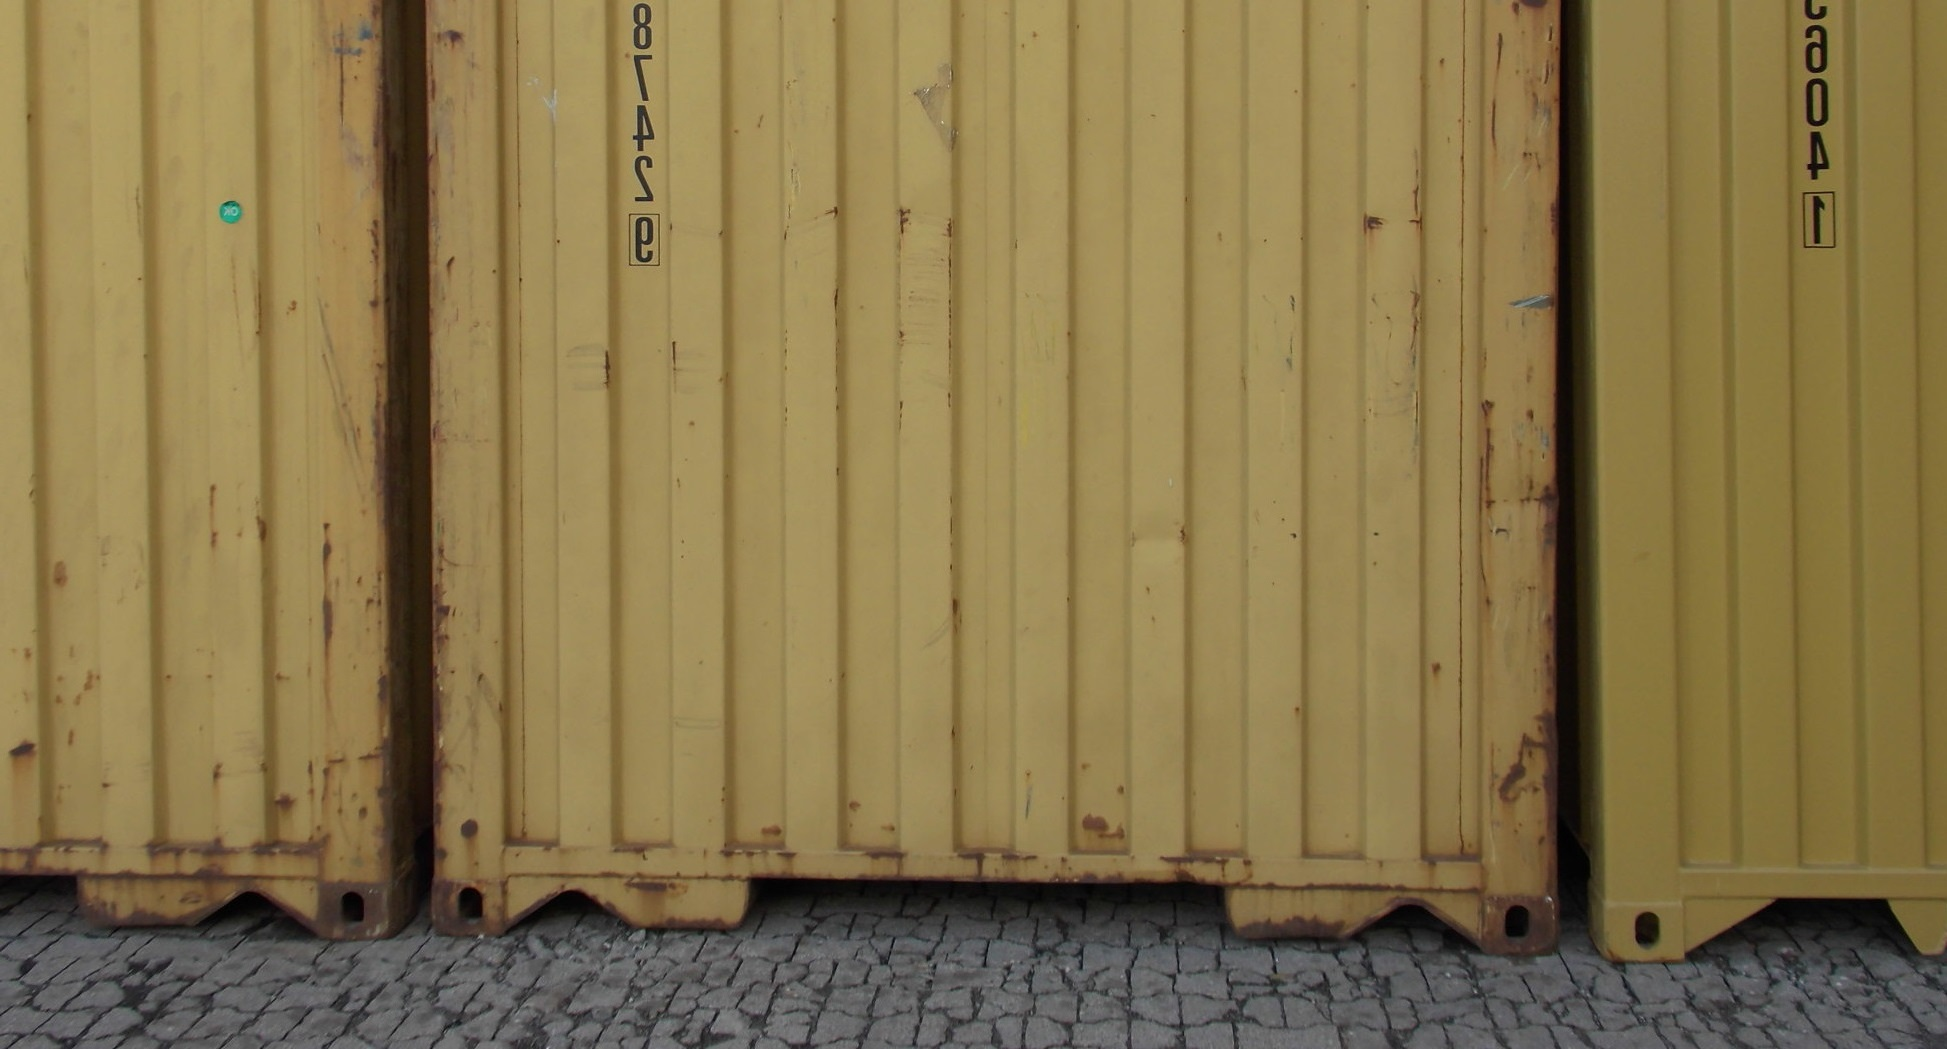container_no_door: (416, 1, 1558, 931), (1, 1, 396, 930), (1602, 1, 1947, 959)
